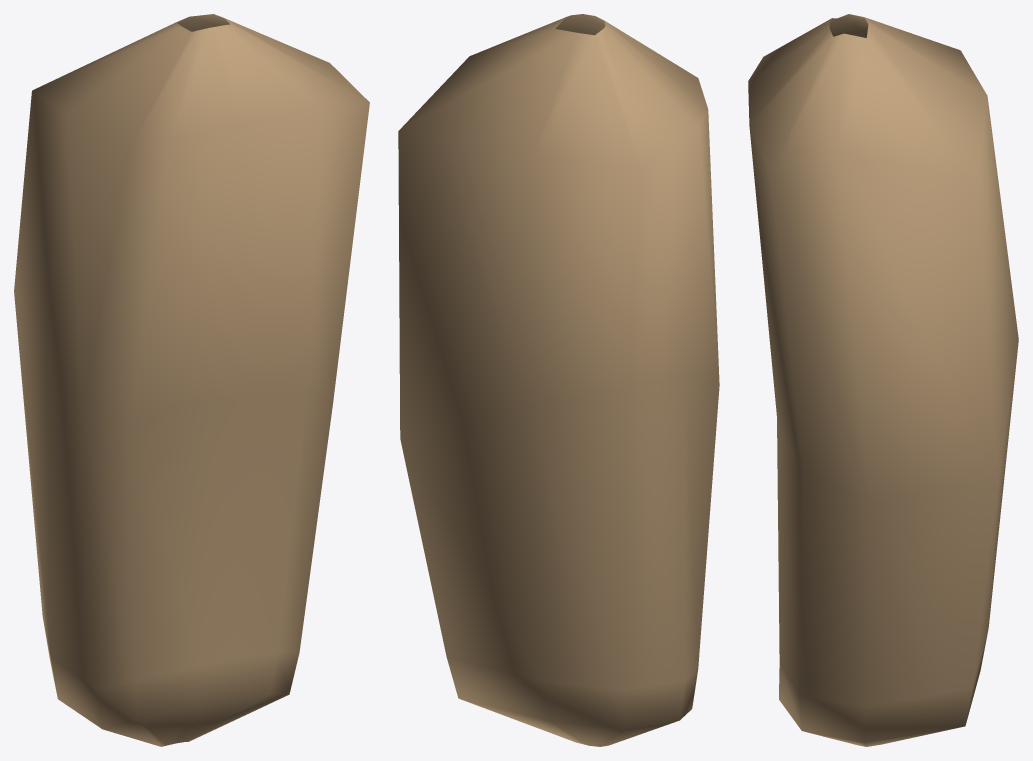
File: leg_r.fbx
3 renders of one model, left to right at view 1: azimuth 30°, elevation 25°; view 2: azimuth 150°, elevation 25°; view 3: azimuth 270°, elevation 25°, orthographic. The views are drawn at different scales.
Parts seen in each view (by area): view 1: Mesh_3; view 2: Mesh_3; view 3: Mesh_3.
Part boxes in pixels (x1,y1,x2,y2): Mesh_3: (14, 14, 369, 746); Mesh_3: (398, 14, 719, 746); Mesh_3: (748, 14, 1018, 746).
Bounding box in the file's own units: 4.11 × 10.84 × 3.66.
